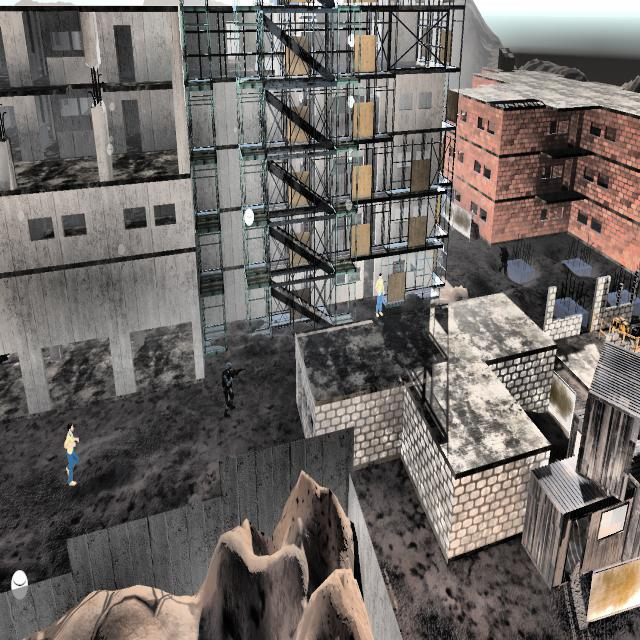bad: (217, 350, 243, 426), (494, 236, 514, 290)
good: (60, 413, 86, 505), (371, 269, 388, 322)
